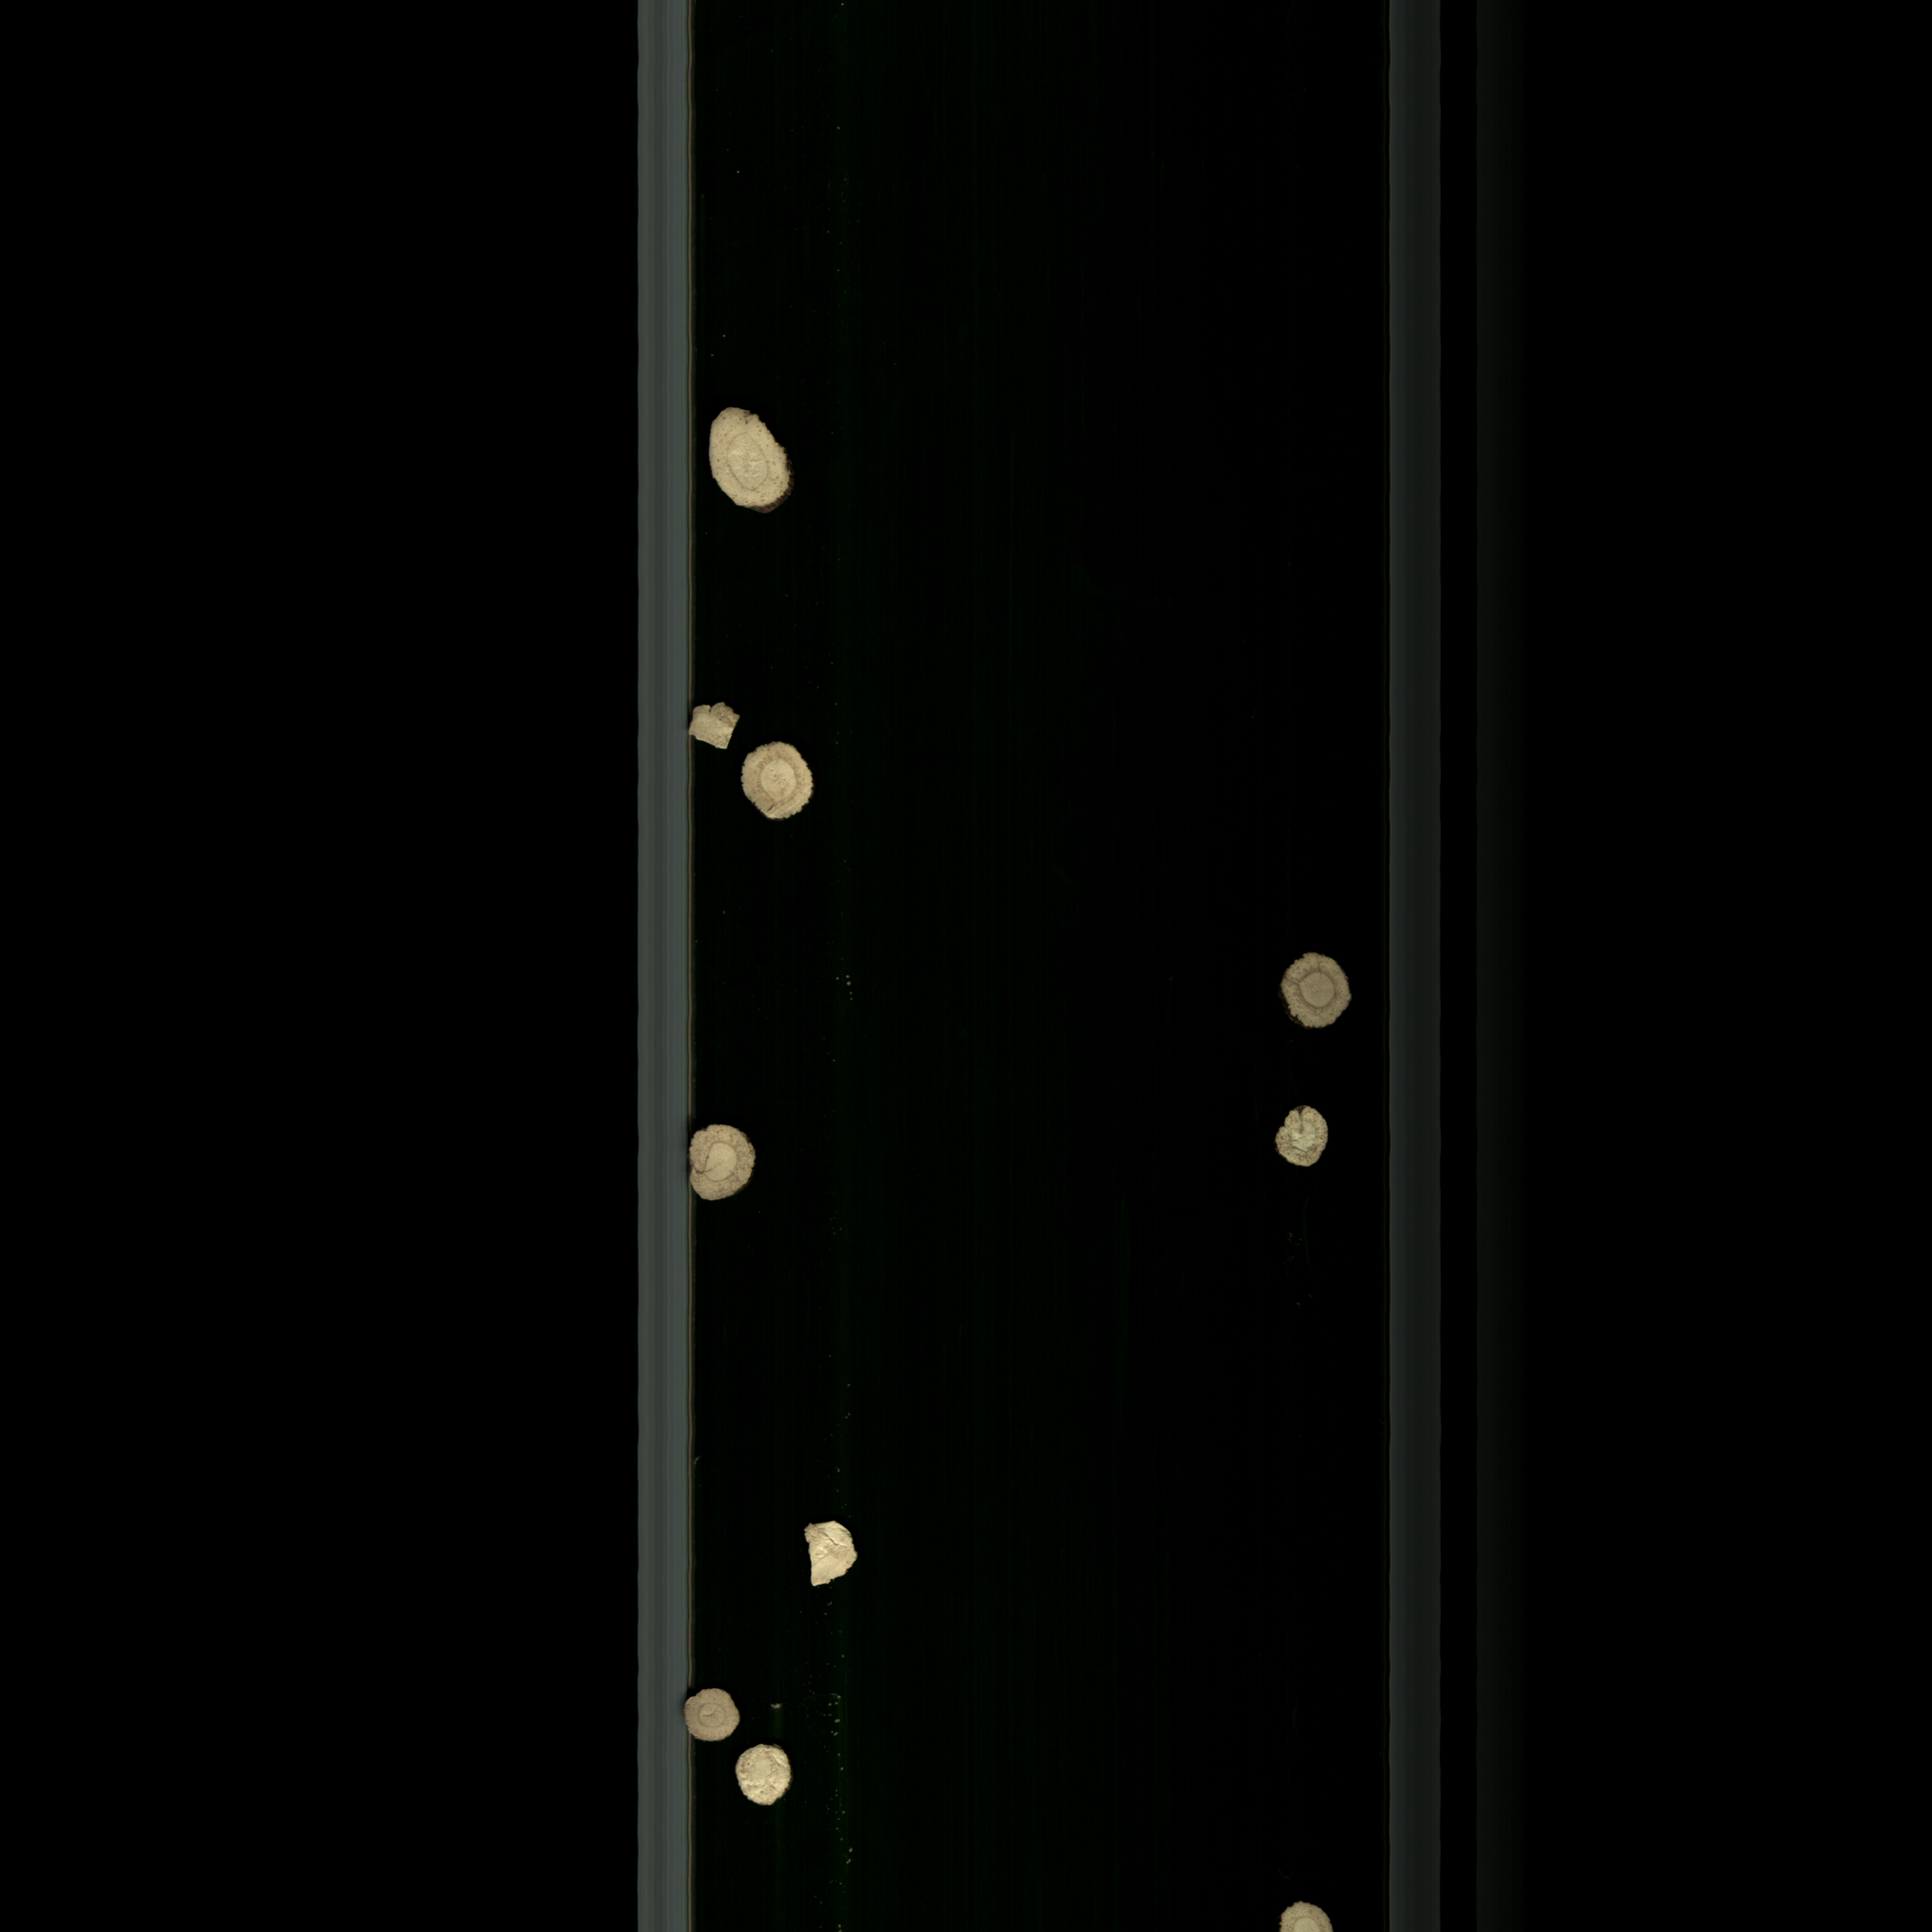debris: (793, 1506, 862, 1608), (679, 688, 743, 755)
distortion: (1270, 1083, 1348, 1178)
moldy: (1267, 939, 1355, 1042), (681, 1108, 755, 1210)
